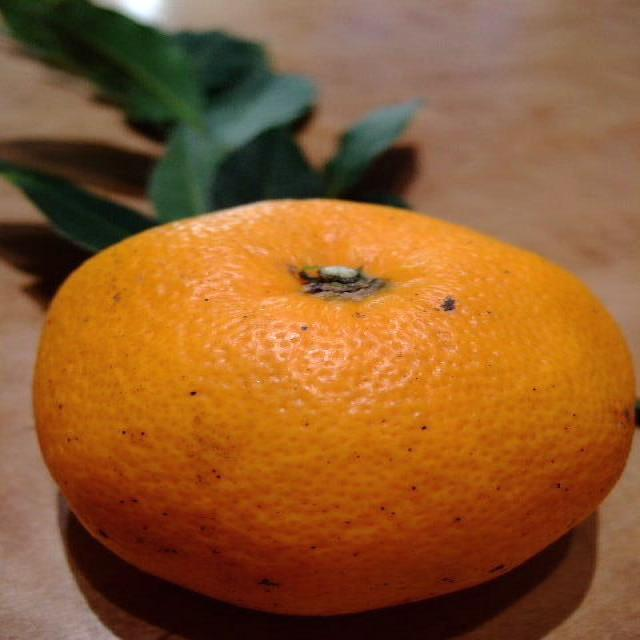Orange: (30, 196, 637, 614)
